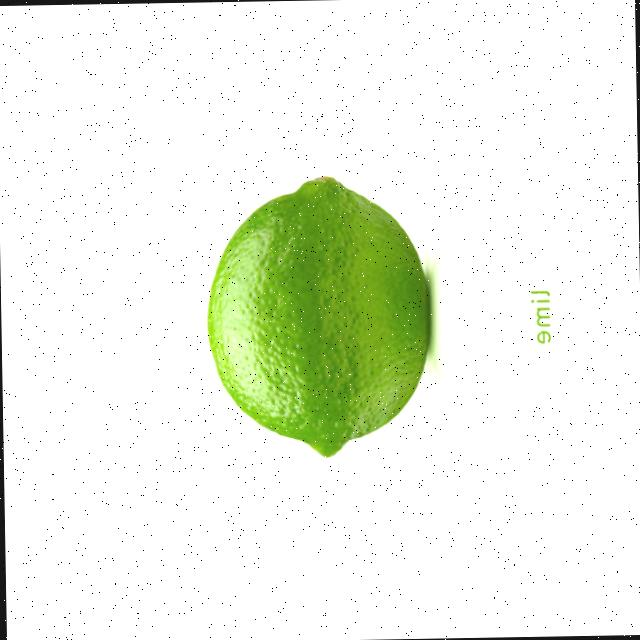Unripe: (200, 170, 433, 463)
